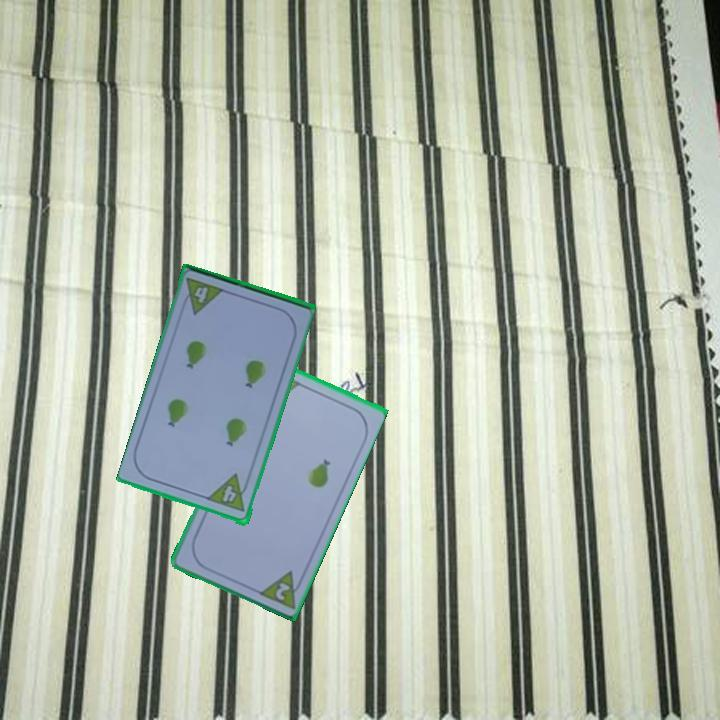2p: (254, 566, 307, 611)
4p: (204, 471, 253, 516), (177, 274, 226, 318)
